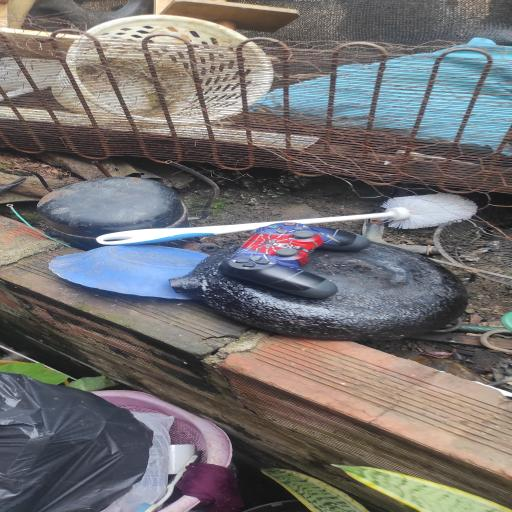ControlPlay4: (220, 221, 369, 298)
